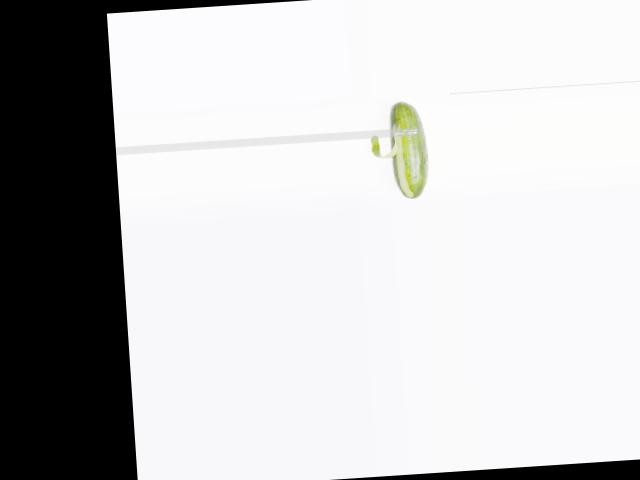cucumber: (386, 99, 429, 199)
